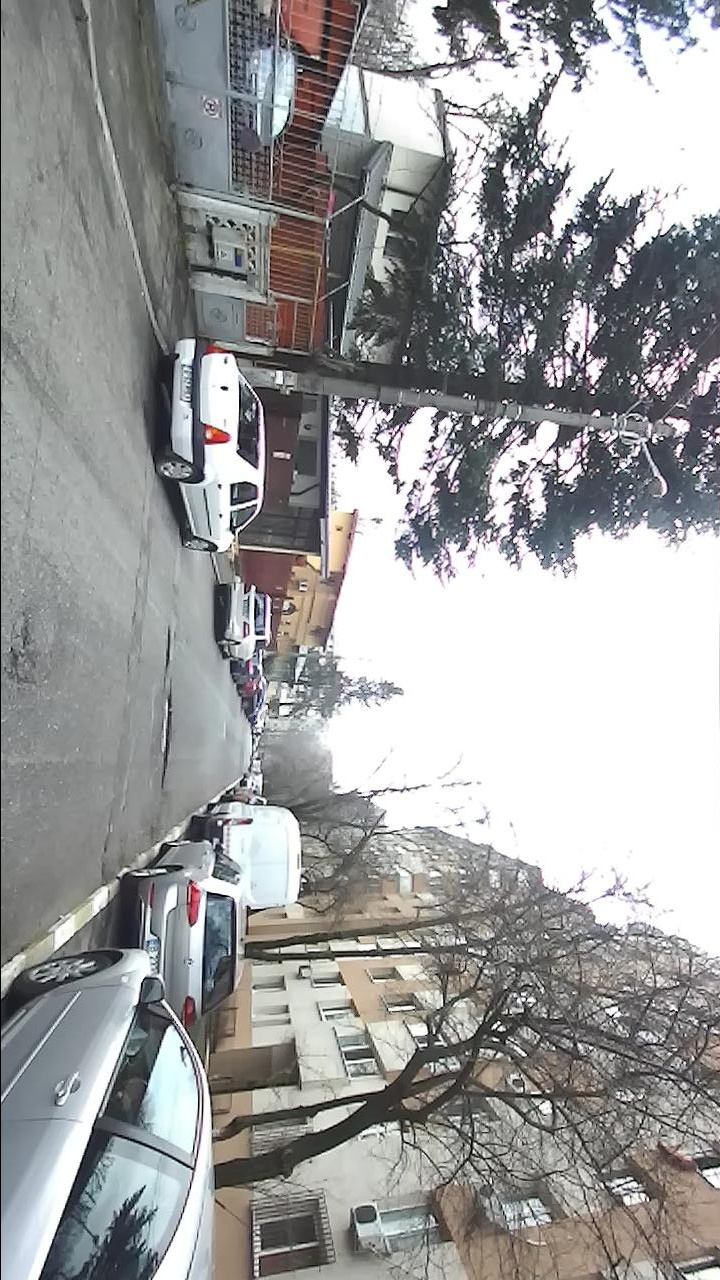pothole: (4, 610, 36, 681), (160, 694, 174, 790), (161, 624, 171, 673)
